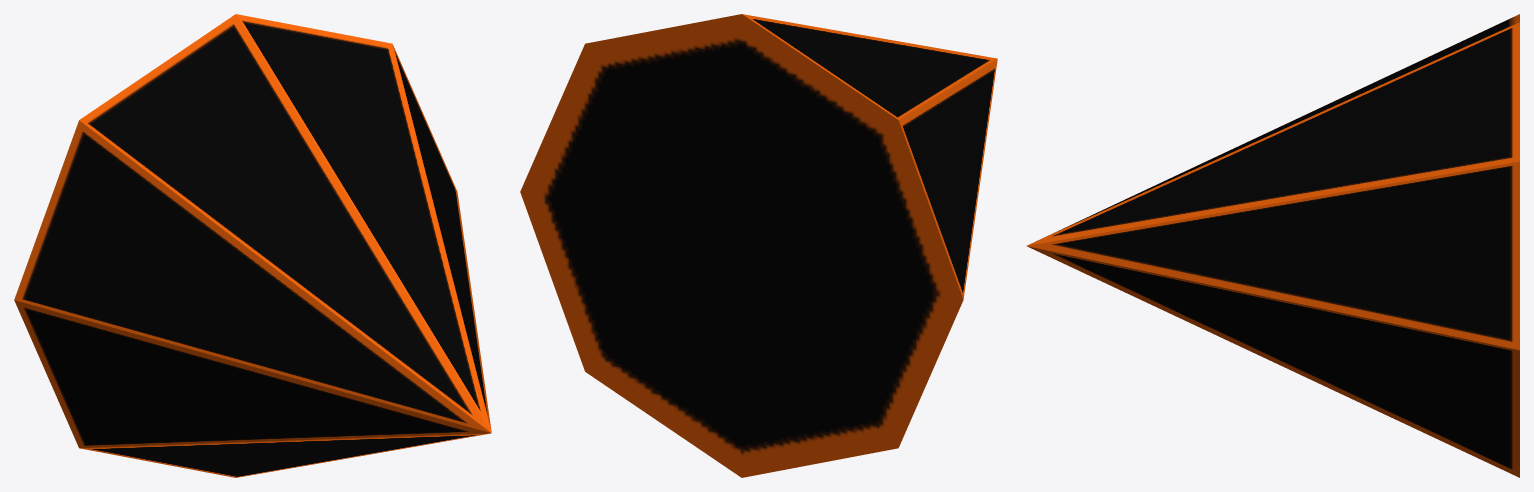
File: AWormHead.fbx
3 renders of one model, left to right at view 1: azimuth 30°, elevation 25°; view 2: azimuth 150°, elevation 25°; view 3: azimuth 270°, elevation 25°, orthographic. The views are drawn at different scales.
Parts seen in each view (by area): view 1: pCone1; view 2: pCone1; view 3: pCone1.
Boxes of the visible parts, x1=… form: pCone1: x1=14, y1=14, x2=491, y2=477; pCone1: x1=520, y1=14, x2=997, y2=477; pCone1: x1=1026, y1=14, x2=1519, y2=477.
Bounding box in the file's own units: 2 × 2 × 2.
1 material, 1 textured.
